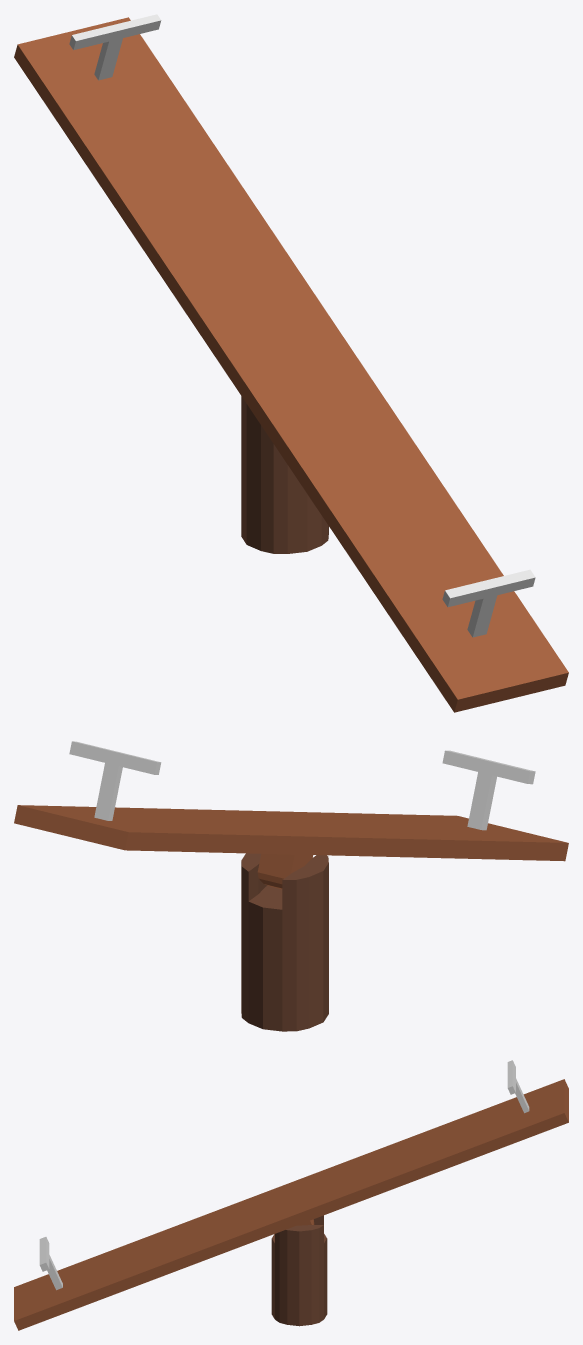
Rendered from Gangorra.fbx.
3 views of the same model, one above another, from view 1: azimuth 30°, elevation 25°; view 2: azimuth 150°, elevation 25°; view 3: azimuth 270°, elevation 25° (orthographic). The views are drawn at different scales.
Visible parts, largest first — view 1: Gangorra; view 2: Gangorra; view 3: Gangorra.
Part boxes in pixels (x1,y1,x2,y2): Gangorra: (14,14,568,712); Gangorra: (14,741,568,1031); Gangorra: (14,1060,568,1330).
Bounding box in the file's own units: 0.9435 × 3.13 × 6.53.
